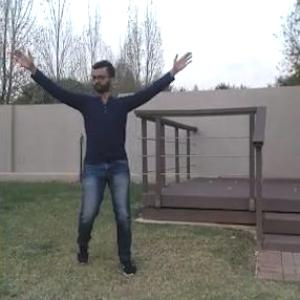takeoff: (4, 42, 195, 277)
